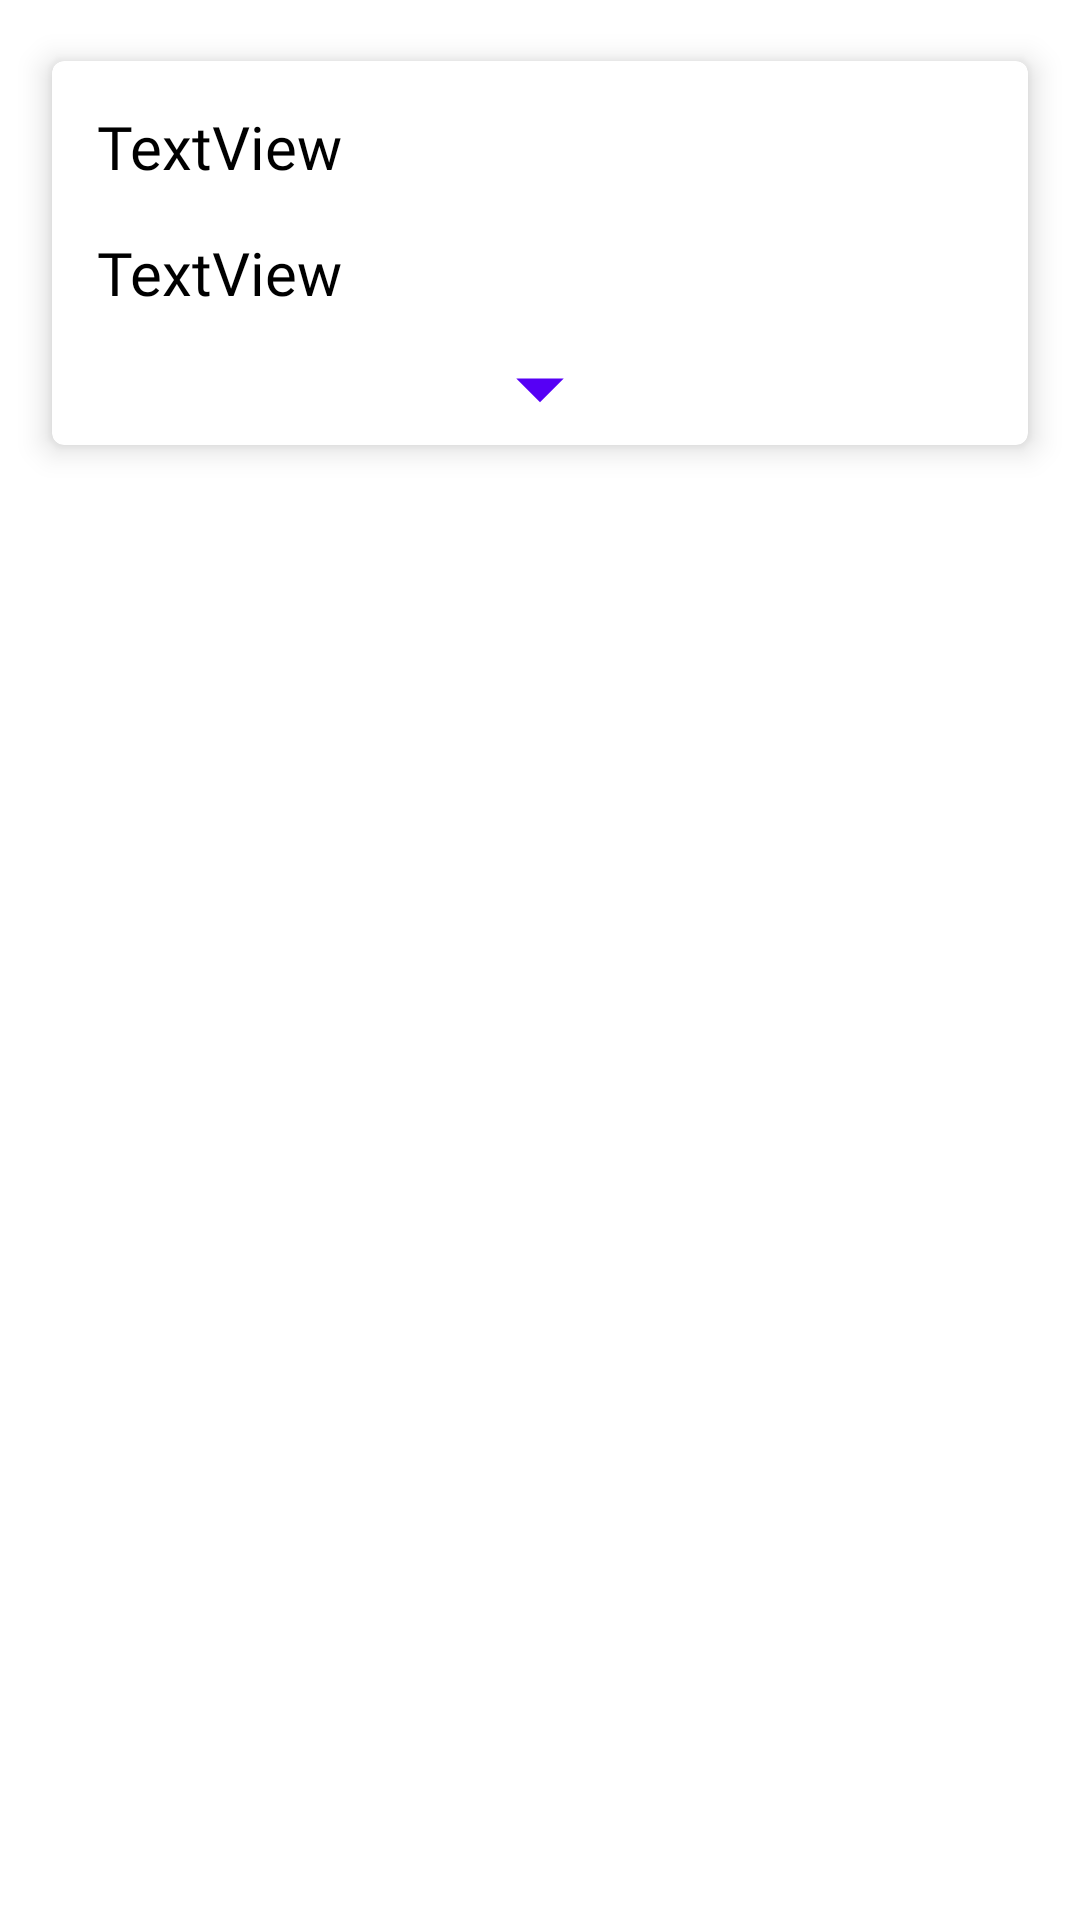

Where icons sit on this 1080*1920 app screen, as [x1,y1,x2,y2]:
arrow drop down: [516,378,564,402]
